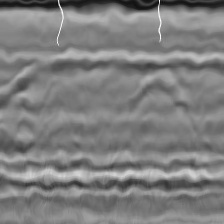Utility: (130, 67, 189, 124)
